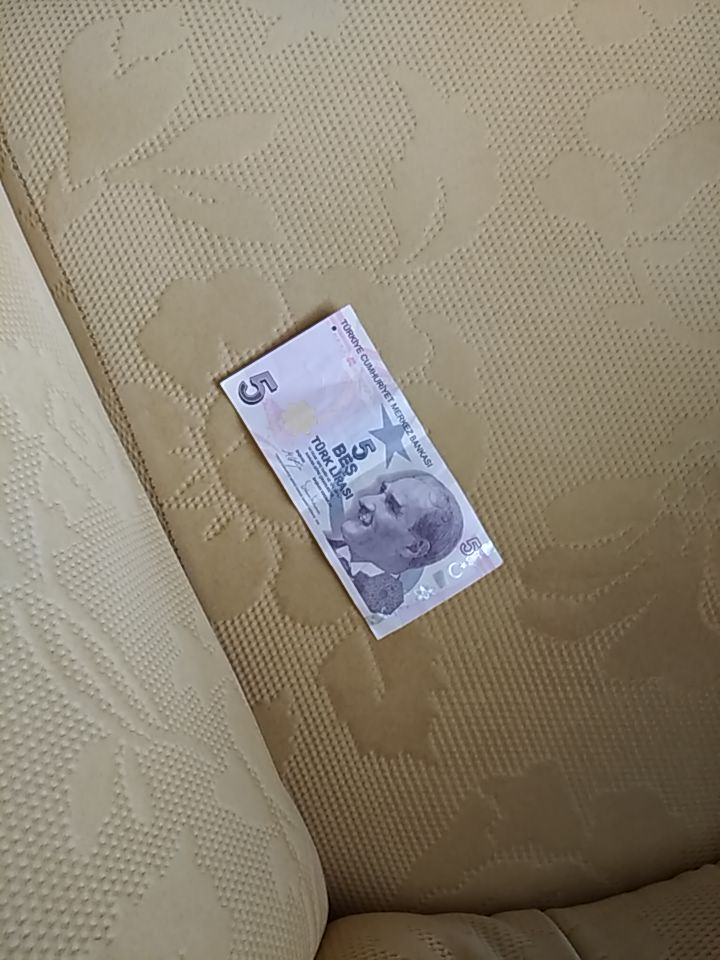5TL: (215, 302, 505, 643)
